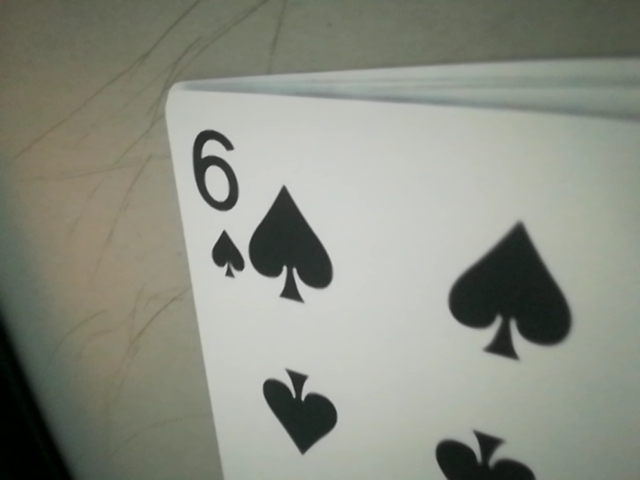ht 6: (188, 106, 248, 287)
